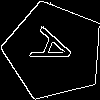A: (29, 26, 85, 75)
